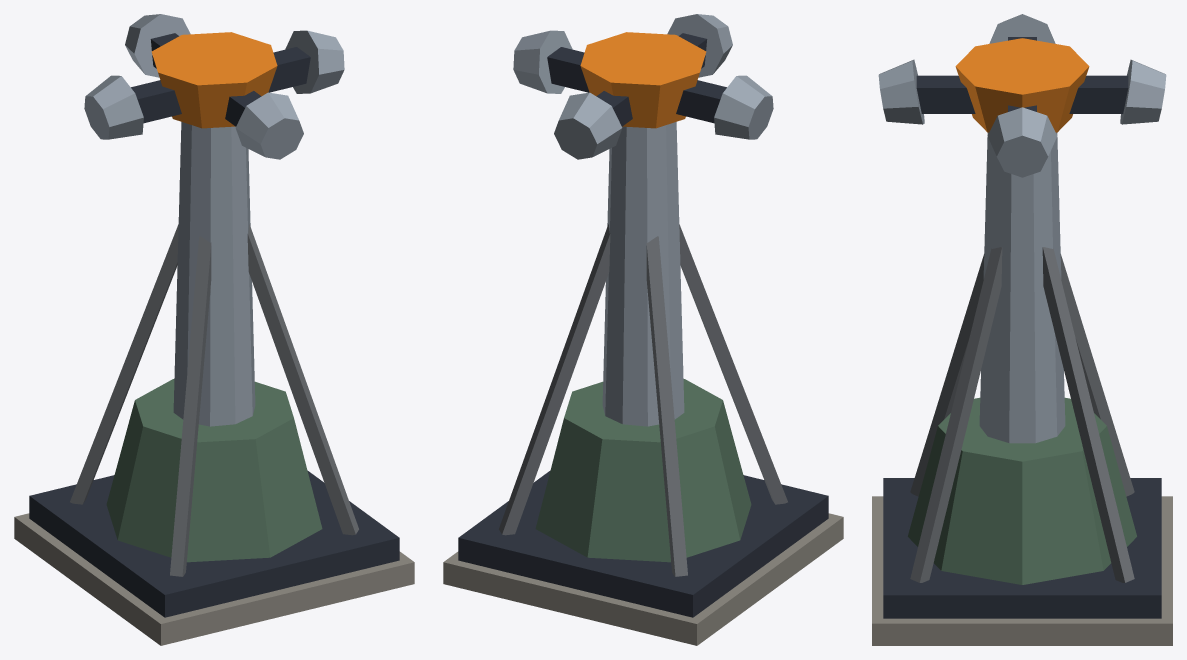
File: installation-spray-tower.glb
3 renders of one model, left to right at view 1: azimuth 30°, elevation 25°; view 2: azimuth 150°, elevation 25°; view 3: azimuth 270°, elevation 25°, orthographic. The views are drawn at different scales.
Visible parts, largest first — view 1: installation_spray_tower; view 2: installation_spray_tower; view 3: installation_spray_tower.
Part boxes in pixels (bbox=[...]): installation_spray_tower: bbox=[14, 14, 414, 645]; installation_spray_tower: bbox=[443, 14, 843, 645]; installation_spray_tower: bbox=[872, 14, 1172, 645].
Bounding box in the file's own units: 2.92 × 5.59 × 2.92.
